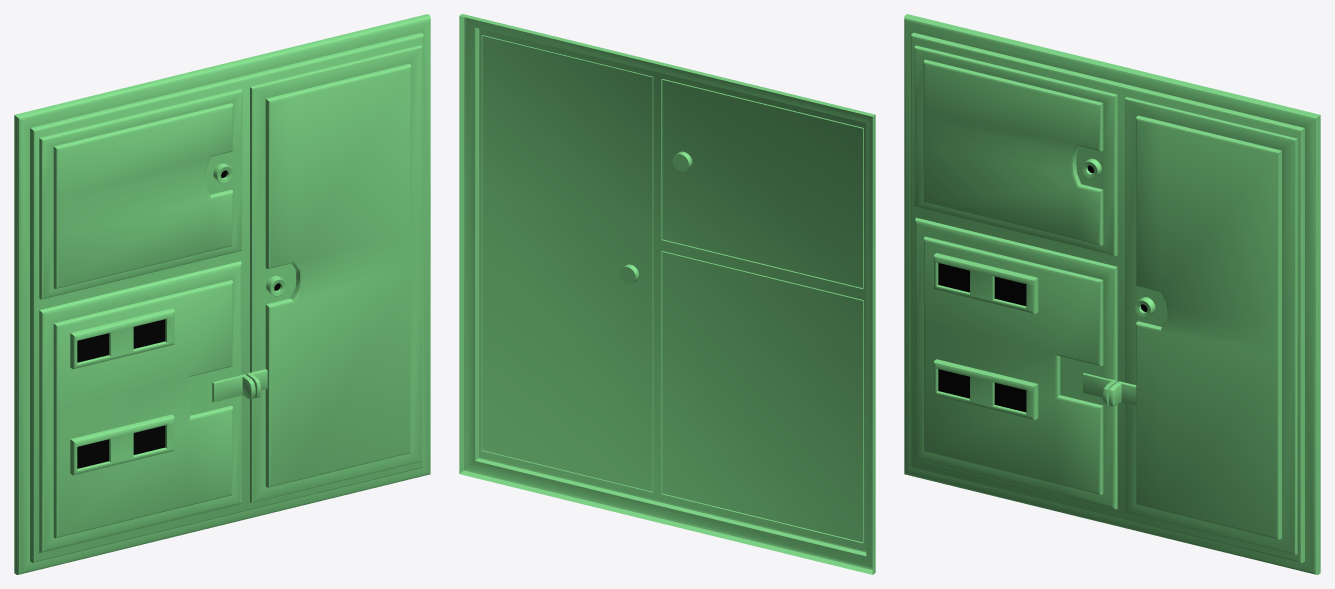
Rendered from shit_padik.fbx.
The picture shows the model from 3 angles, left to right: view 1: azimuth 30°, elevation 25°; view 2: azimuth 150°, elevation 25°; view 3: azimuth 330°, elevation 25°; orthographic projection.
Visible parts, largest first — view 1: Plane.002; view 2: Plane.002; view 3: Plane.002.
Boxes of the visible parts, box(x1,y1,x2,y2) form: Plane.002: box(14, 14, 430, 574); Plane.002: box(459, 14, 875, 574); Plane.002: box(904, 14, 1320, 574).
Bounding box in the file's own units: 405 × 429 × 35.49.
